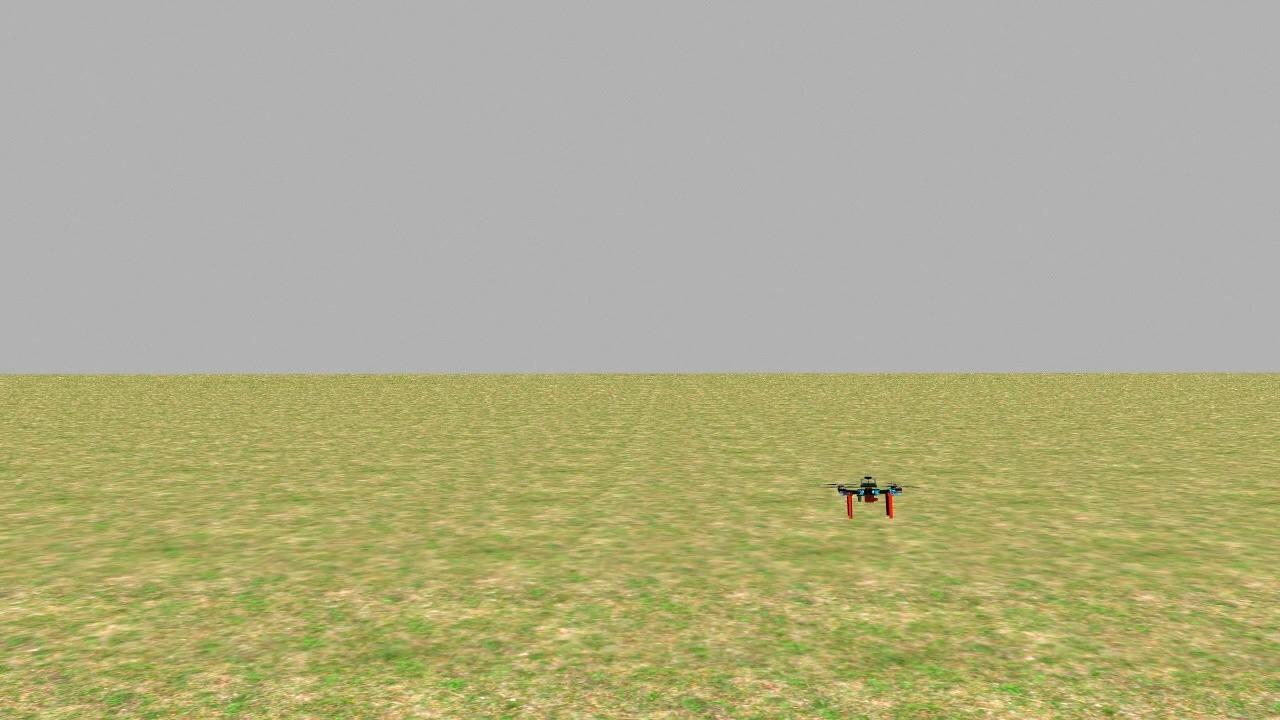UAV: (821, 458, 922, 532)
